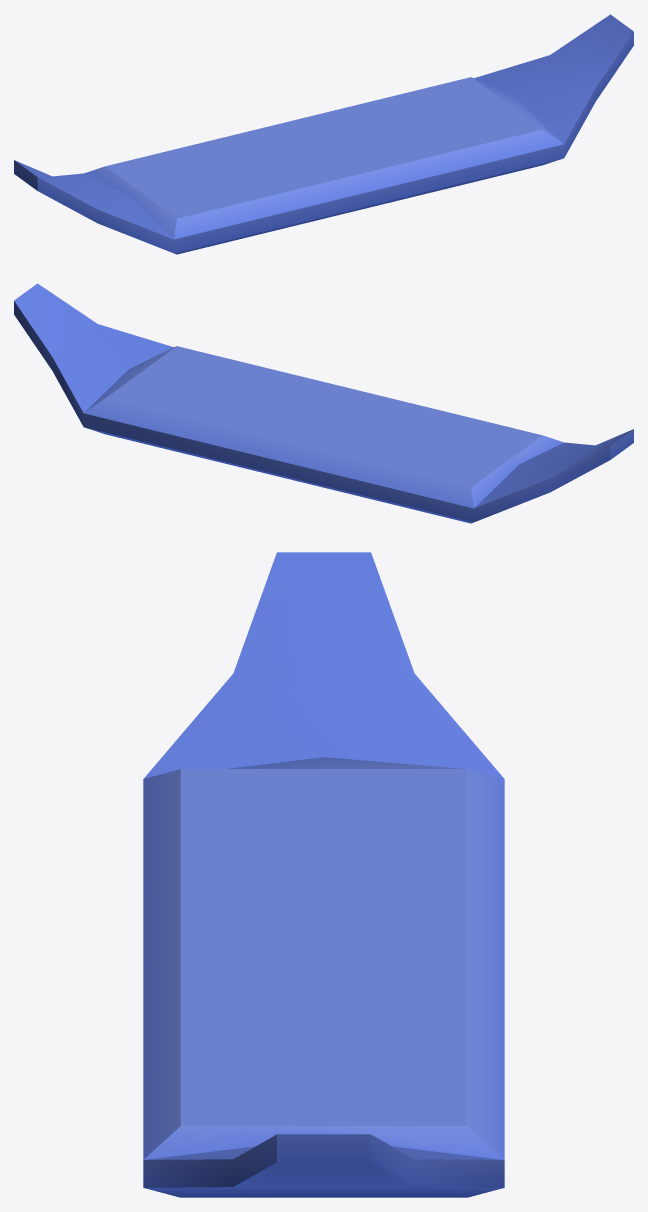
Rendered from Guard_Four.fbx.
The picture shows the model from 3 angles, top to bottom: view 1: azimuth 30°, elevation 25°; view 2: azimuth 150°, elevation 25°; view 3: azimuth 270°, elevation 25°; orthographic projection. The views are drawn at different scales.
Parts seen in each view (by area): view 1: Guard_Four; view 2: Guard_Four; view 3: Guard_Four.
Boxes of the visible parts, x1,y1,x2,y2 form: Guard_Four: (14,14,633,254); Guard_Four: (14,283,633,523); Guard_Four: (143,552,504,1197).
Size of the model in its own units: 5.06 by 0.7135 by 1.33.
